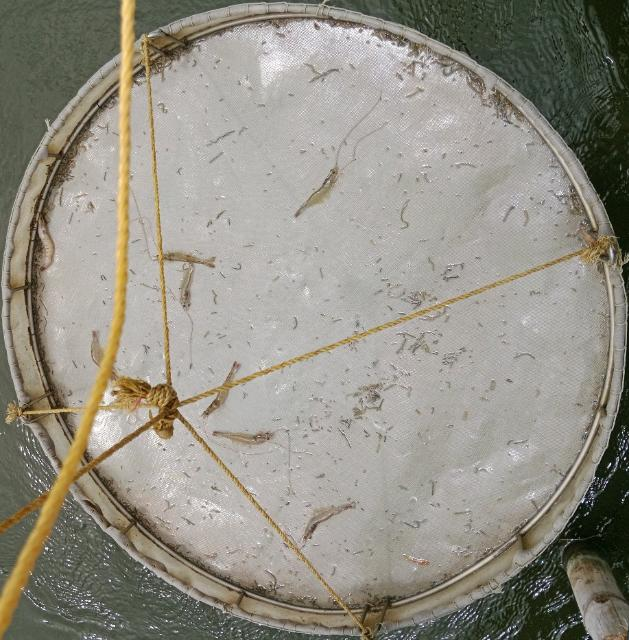shrimp: (201, 363, 240, 418), (295, 167, 337, 217), (303, 503, 355, 541), (91, 331, 120, 384), (213, 431, 273, 445), (163, 252, 215, 266), (179, 263, 193, 308)
